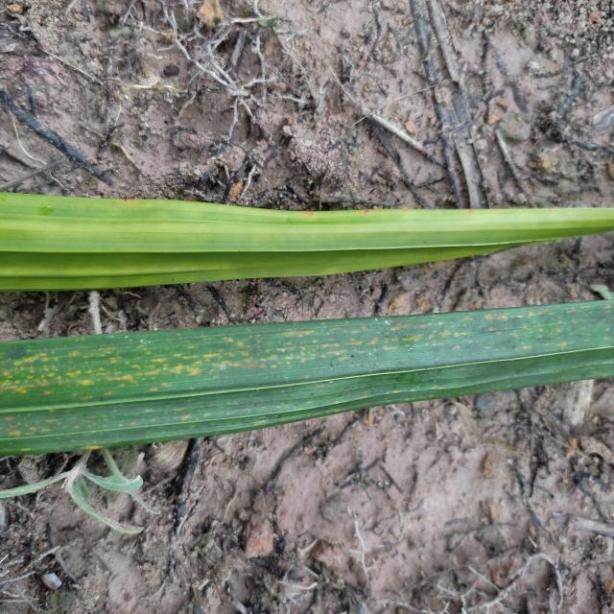nitrogen: (0, 297, 614, 459), (1, 190, 614, 294)
